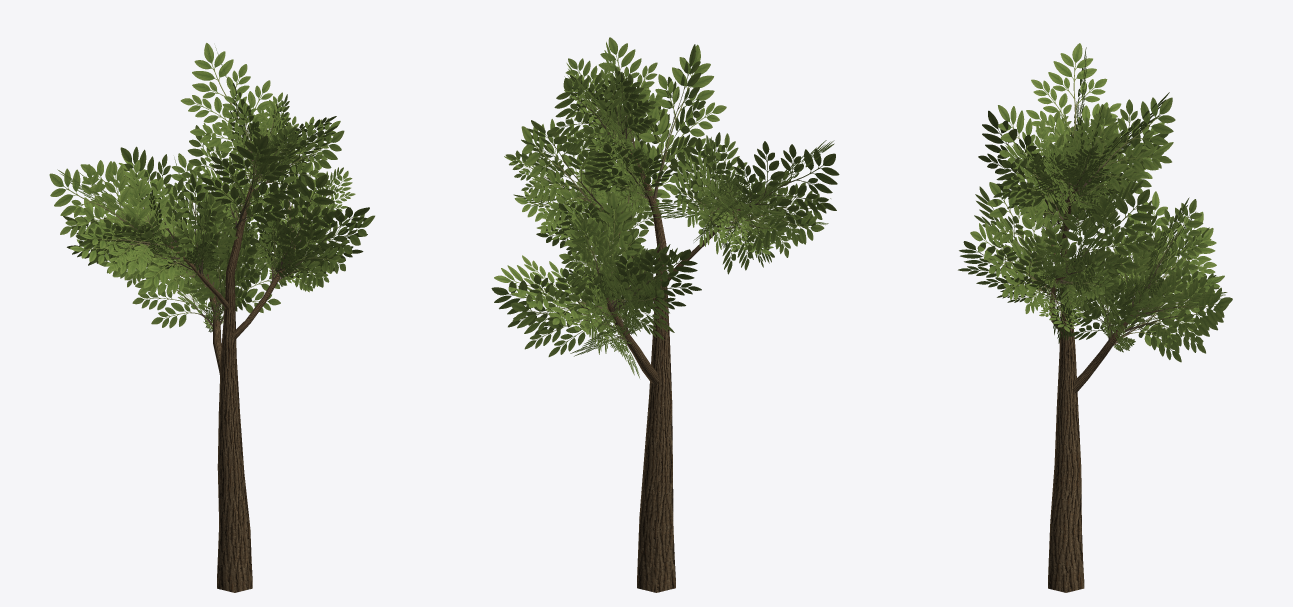
Rendered from Tree6.gltf.
The picture shows the model from 3 angles, left to right: view 1: azimuth 30°, elevation 25°; view 2: azimuth 150°, elevation 25°; view 3: azimuth 270°, elevation 25°; orthographic projection. The views are drawn at different scales.
Parts seen in each view (by area): view 1: leaves.006, trunk.006; view 2: leaves.006, trunk.006; view 3: leaves.006, trunk.006.
Boxes of the visible parts, x1,y1,x2,y2 form: leaves.006: (49,43,374,332); trunk.006: (163,174,309,592); leaves.006: (491,37,839,378); trunk.006: (578,141,740,592); leaves.006: (958,43,1232,362); trunk.006: (1045,187,1140,592).
Size of the model in its own units: 54.87 by 78.06 by 47.5.
2 materials, 2 textured.
